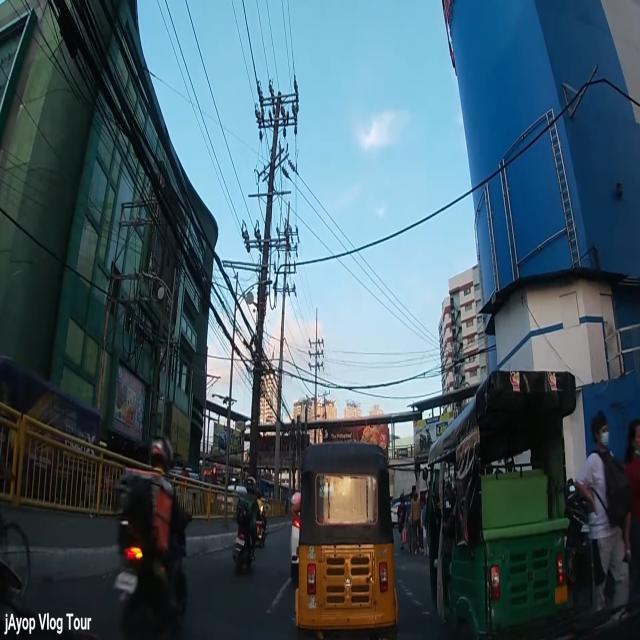bus: (0, 354, 103, 489)
motorcycle: (115, 436, 191, 636), (233, 488, 264, 570)
tricycle: (422, 369, 576, 640), (292, 441, 396, 640)
